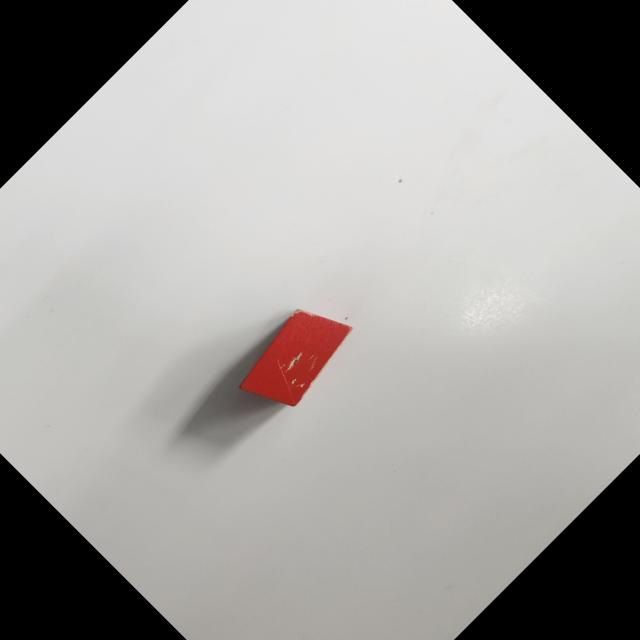broken: (228, 291, 362, 425)
